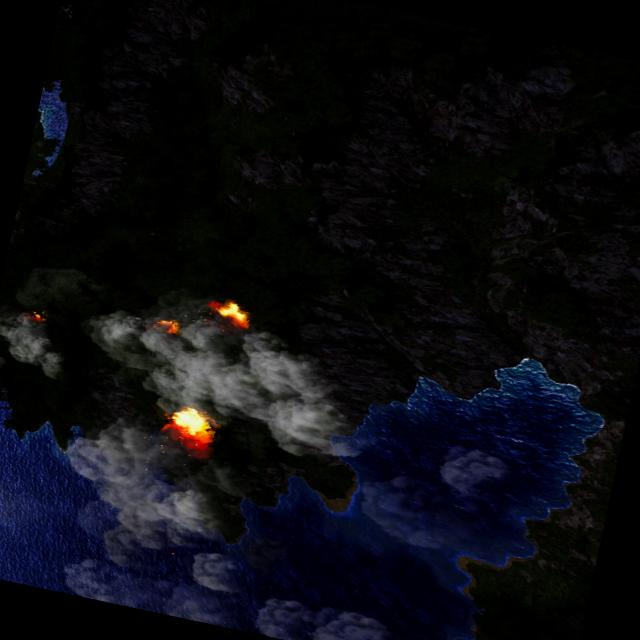fire: (162, 402, 219, 450), (212, 297, 254, 326), (156, 316, 182, 336), (28, 308, 46, 320)
smoke: (27, 405, 270, 628), (68, 281, 368, 459), (347, 424, 514, 560), (249, 586, 399, 640), (0, 305, 72, 382)
